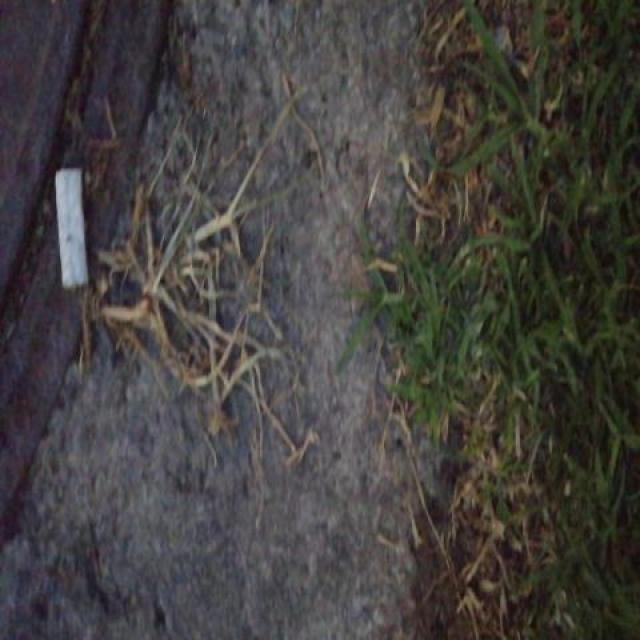non-organic waste: (48, 162, 96, 294)
